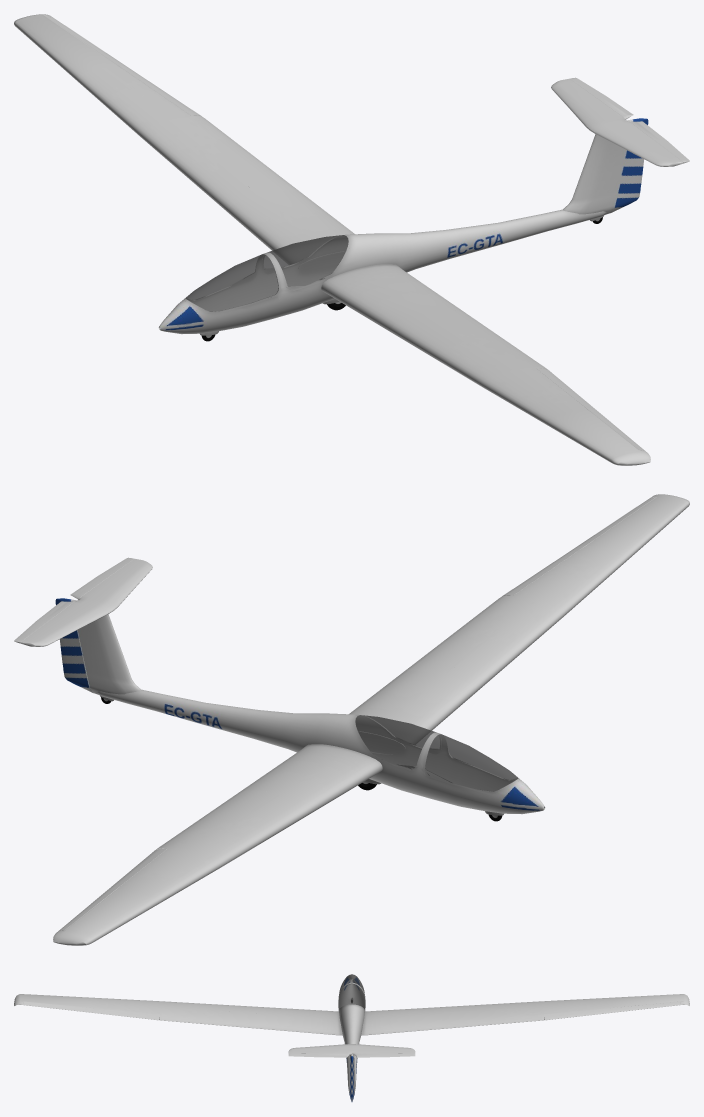
The picture shows the model from 3 angles, top to bottom: view 1: azimuth 30°, elevation 25°; view 2: azimuth 150°, elevation 25°; view 3: azimuth 270°, elevation 25°; orthographic projection. The views are drawn at different scales.
Parts seen in each view (by area): view 1: body, wing.R2, wing.L2, wing.R1, wing.L1, wing.R3, Circle.008, canopyF.glass.outside, wing.L3, vstab, wing.R4, wing.L4 (+4 smaller); view 2: body, wing.L2, wing.R2, wing.L1, wing.R1, wing.L3, Circle.008, wing.R3, canopyF.glass.outside, vstab, wing.L4, canopyR.glass.outside (+4 smaller); view 3: wing.L2, wing.R2, wing.L1, wing.R1, body, Circle.008, wing.R3, wing.L3, wing.L4, wing.R4, elevator, canopyR.glass.outside (+4 smaller).
Part boxes in pixels (x1,y1,x2,y2): body: (158,209,606,334); wing.R2: (139,116,300,213); wing.L2: (391,310,546,386); wing.R1: (228,191,354,274); wing.L1: (321,264,463,332); wing.R3: (77,65,202,135); Circle.008: (551,79,682,166); canopyF.glass.outside: (185,254,278,311); wing.L3: (481,367,586,424); vstab: (563,119,631,214); wing.R4: (14,14,116,80); wing.L4: (546,409,650,465); body: (97,689,545,814); wing.L2: (403,596,564,693); wing.R2: (157,790,312,866); wing.L1: (349,671,475,754); wing.R1: (240,744,382,812); wing.L3: (501,545,626,615); Circle.008: (21,559,152,646); wing.R3: (117,847,222,904); canopyF.glass.outside: (425,734,518,791); vstab: (72,599,140,694); wing.L4: (587,494,689,560); canopyR.glass.outside: (355,715,439,769); wing.L2: (162,1001,261,1028); wing.R2: (442,1001,541,1028); wing.L1: (261,1007,342,1035); wing.R1: (361,1007,442,1035); body: (338,975,365,1094); Circle.008: (288,1044,415,1053); wing.R3: (542,997,612,1020); wing.L3: (91,997,161,1020); wing.L4: (14,994,90,1007); wing.R4: (613,994,689,1007); elevator: (288,1053,415,1057); canopyR.glass.outside: (338,983,365,1009).
Bounding box in the file's own units: 8.04 × 1.91 × 17.33.
Materials: 2 (1 with a texture image).
